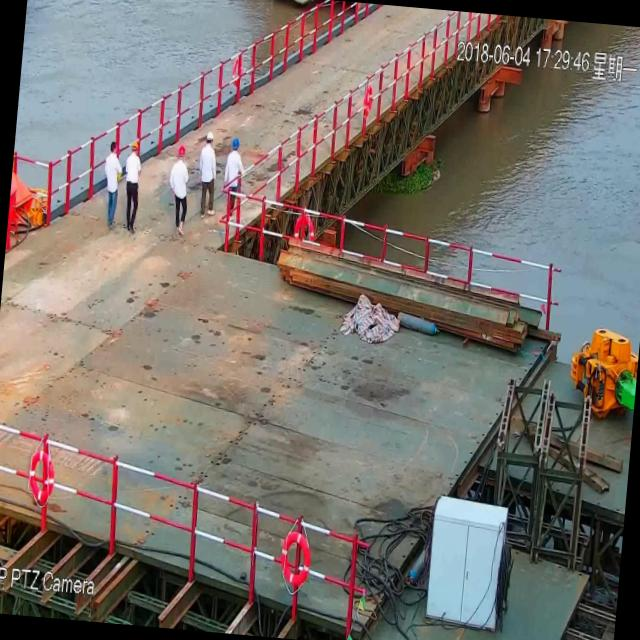helmet: (228, 134, 240, 154), (203, 130, 214, 148), (175, 144, 186, 160)
no-helmet: (107, 139, 119, 158)
no-vest: (166, 157, 188, 205), (198, 143, 218, 190), (102, 152, 120, 195), (224, 150, 242, 188), (124, 151, 142, 188)
